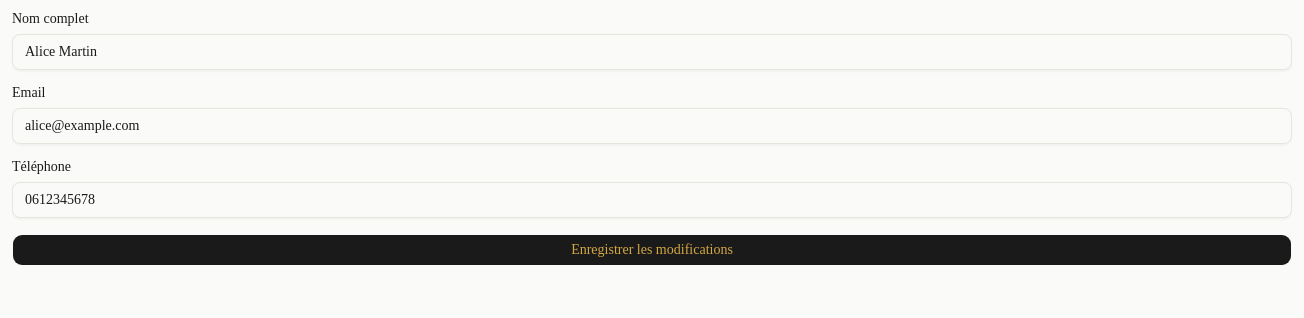
Test: <ProfileForm> › displays a success message after a successful update
Click the button "Enregistrer les modifications" at (652, 250), box [12, 234, 1292, 266]
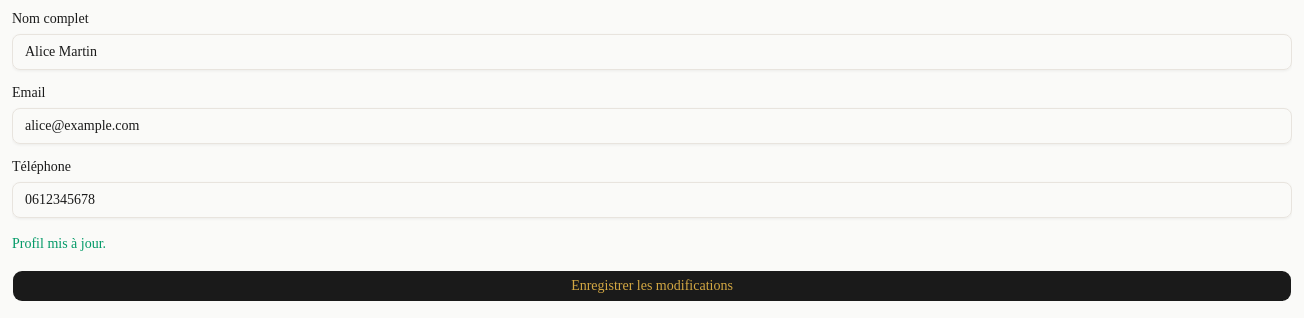
Expected: the message shows "Profil mis à jour", [12, 236, 106, 251]
